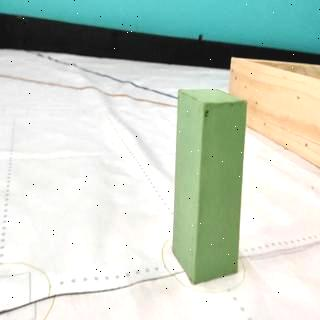greenbox: (172, 87, 248, 287)
